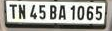0: (77, 5, 85, 21)
1: (70, 4, 76, 20)
4: (30, 4, 38, 20)
5: (95, 5, 103, 21), (38, 5, 46, 19)
6: (86, 5, 94, 20)
A: (58, 4, 68, 21)
B: (49, 4, 57, 20)
N: (18, 4, 26, 19)
T: (8, 3, 17, 20)
